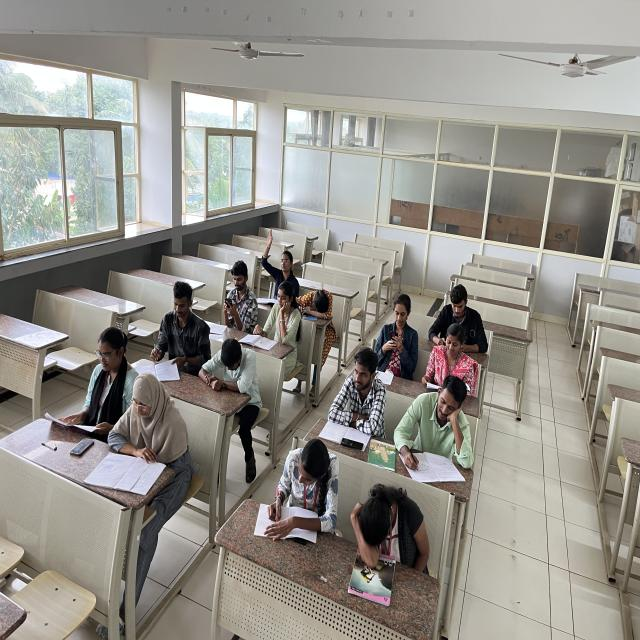Hand Rising: (255, 221, 300, 280)
Reading: (102, 368, 179, 498), (54, 319, 123, 434)
Sleeping: (340, 488, 434, 588), (202, 338, 257, 408), (297, 286, 339, 322)
Using Phone: (374, 290, 424, 374), (214, 254, 256, 329)
Writing: (250, 429, 340, 541), (395, 374, 480, 485), (148, 273, 204, 367)
